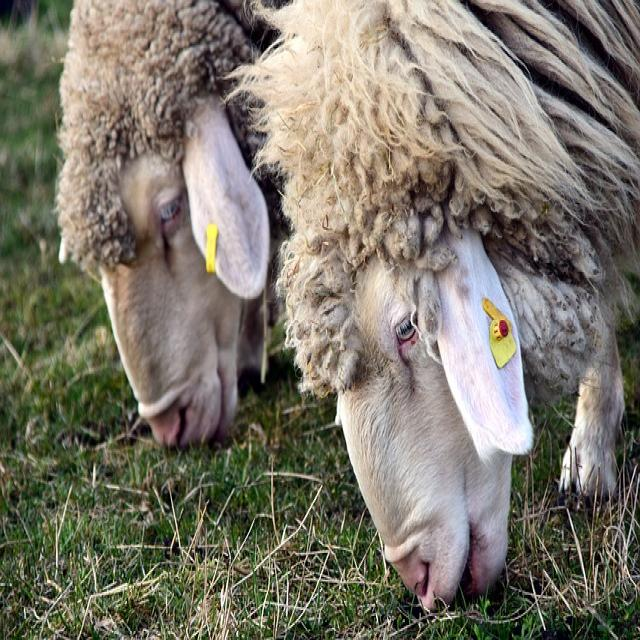goat: (222, 0, 640, 616), (55, 0, 287, 452)
